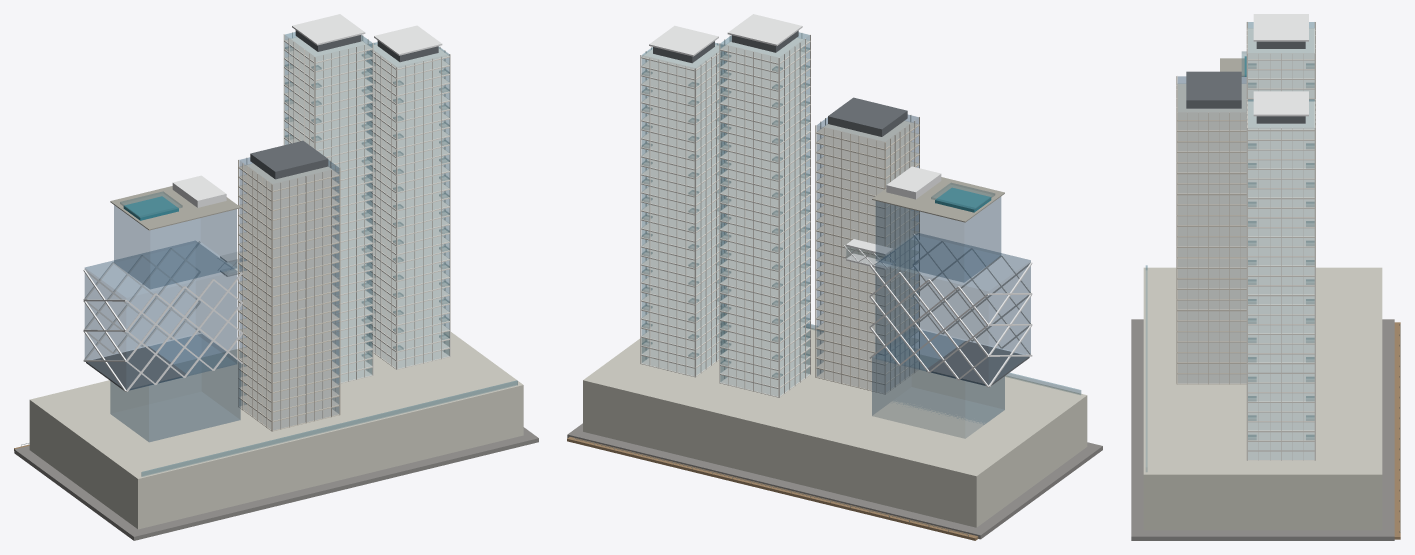
Rendered from cinnamon_life.glb.
3 views of the same model, side by side, from view 1: azimuth 30°, elevation 25°; view 2: azimuth 150°, elevation 25°; view 3: azimuth 270°, elevation 25° (orthographic). The views are drawn at different scales.
Parts seen in each view (by area): view 1: 01 Beira Lake esplanade and podium / Limestone, 04 The Suites and residential towers / White plaster, 04 The Suites and residential towers / Ocean Glass, 02 Cantilevered hotel volume / Deep Blue Glass, 05 Office tower and high-level sky bridge / Champagne Metal, 05 Office tower and high-level sky bridge / Deep Blue Glass, 01 Beira Lake esplanade and podium / Granite Base, 03 Cecil Balmond diagrid exoskeleton / White Steel, 04 The Suites and residential towers / White Steel, 04 The Suites and residential towers / Glass, 02 Cantilevered hotel volume / Dark Anodized, 02 Cantilevered hotel volume / Paving (+6 smaller); view 2: 04 The Suites and residential towers / White plaster, 01 Beira Lake esplanade and podium / Limestone, 04 The Suites and residential towers / Ocean Glass, 02 Cantilevered hotel volume / Deep Blue Glass, 05 Office tower and high-level sky bridge / Champagne Metal, 05 Office tower and high-level sky bridge / Deep Blue Glass, 01 Beira Lake esplanade and podium / Granite Base, 03 Cecil Balmond diagrid exoskeleton / White Steel, 04 The Suites and residential towers / Glass, 04 The Suites and residential towers / White Steel, 01 Beira Lake esplanade and podium / Timber Decking, 02 Cantilevered hotel volume / Dark Anodized (+7 smaller); view 3: 01 Beira Lake esplanade and podium / Limestone, 04 The Suites and residential towers / White plaster, 04 The Suites and residential towers / Ocean Glass, 05 Office tower and high-level sky bridge / Champagne Metal, 05 Office tower and high-level sky bridge / Deep Blue Glass, 01 Beira Lake esplanade and podium / Granite Base, 04 The Suites and residential towers / White Steel, 05 Office tower and high-level sky bridge / Dark Anodized, 04 The Suites and residential towers / Glass, 01 Beira Lake esplanade and podium / Timber Decking, 04 The Suites and residential towers / Dark Anodized, 01 Beira Lake esplanade and podium / Ocean Glass (+1 smaller).
Boxes of the visible parts, x1=… form: 01 Beira Lake esplanade and podium / Limestone: x1=29, y1=317, x2=523, y2=529; 04 The Suites and residential towers / White plaster: x1=283, y1=32, x2=450, y2=383; 04 The Suites and residential towers / Ocean Glass: x1=285, y1=32, x2=449, y2=382; 02 Cantilevered hotel volume / Deep Blue Glass: x1=85, y1=205, x2=240, y2=441; 05 Office tower and high-level sky bridge / Champagne Metal: x1=238, y1=157, x2=340, y2=431; 05 Office tower and high-level sky bridge / Deep Blue Glass: x1=239, y1=157, x2=338, y2=429; 01 Beira Lake esplanade and podium / Granite Base: x1=14, y1=427, x2=538, y2=540; 03 Cecil Balmond diagrid exoskeleton / White Steel: x1=83, y1=241, x2=242, y2=391; 04 The Suites and residential towers / White Steel: x1=292, y1=14, x2=442, y2=55; 04 The Suites and residential towers / Glass: x1=285, y1=46, x2=449, y2=358; 02 Cantilevered hotel volume / Dark Anodized: x1=86, y1=346, x2=185, y2=390; 02 Cantilevered hotel volume / Paving: x1=110, y1=186, x2=240, y2=230; 04 The Suites and residential towers / White plaster: x1=640, y1=33, x2=810, y2=397; 01 Beira Lake esplanade and podium / Limestone: x1=583, y1=306, x2=1087, y2=527; 04 The Suites and residential towers / Ocean Glass: x1=642, y1=32, x2=809, y2=396; 02 Cantilevered hotel volume / Deep Blue Glass: x1=872, y1=197, x2=1030, y2=438; 05 Office tower and high-level sky bridge / Champagne Metal: x1=815, y1=115, x2=919, y2=394; 05 Office tower and high-level sky bridge / Deep Blue Glass: x1=817, y1=115, x2=918, y2=389; 01 Beira Lake esplanade and podium / Granite Base: x1=567, y1=423, x2=1102, y2=539; 03 Cecil Balmond diagrid exoskeleton / White Steel: x1=869, y1=233, x2=1032, y2=387; 04 The Suites and residential towers / Glass: x1=642, y1=47, x2=809, y2=377; 04 The Suites and residential towers / White Steel: x1=649, y1=14, x2=802, y2=56; 01 Beira Lake esplanade and podium / Timber Decking: x1=567, y1=437, x2=978, y2=540; 02 Cantilevered hotel volume / Dark Anodized: x1=926, y1=341, x2=1029, y2=385; 01 Beira Lake esplanade and podium / Limestone: x1=1143, y1=267, x2=1382, y2=530; 04 The Suites and residential towers / White plaster: x1=1246, y1=21, x2=1315, y2=460; 04 The Suites and residential towers / Ocean Glass: x1=1248, y1=22, x2=1314, y2=459; 05 Office tower and high-level sky bridge / Champagne Metal: x1=1176, y1=76, x2=1246, y2=384; 05 Office tower and high-level sky bridge / Deep Blue Glass: x1=1178, y1=76, x2=1246, y2=383; 01 Beira Lake esplanade and podium / Granite Base: x1=1131, y1=319, x2=1394, y2=540; 04 The Suites and residential towers / White Steel: x1=1253, y1=14, x2=1308, y2=116; 05 Office tower and high-level sky bridge / Dark Anodized: x1=1186, y1=71, x2=1241, y2=108; 04 The Suites and residential towers / Glass: x1=1248, y1=63, x2=1314, y2=439; 01 Beira Lake esplanade and podium / Timber Decking: x1=1394, y1=322, x2=1400, y2=539; 04 The Suites and residential towers / Dark Anodized: x1=1256, y1=41, x2=1305, y2=123; 01 Beira Lake esplanade and podium / Ocean Glass: x1=1146, y1=265, x2=1147, y2=471.
Bounding box in the file's own units: 168 × 158 × 88.
